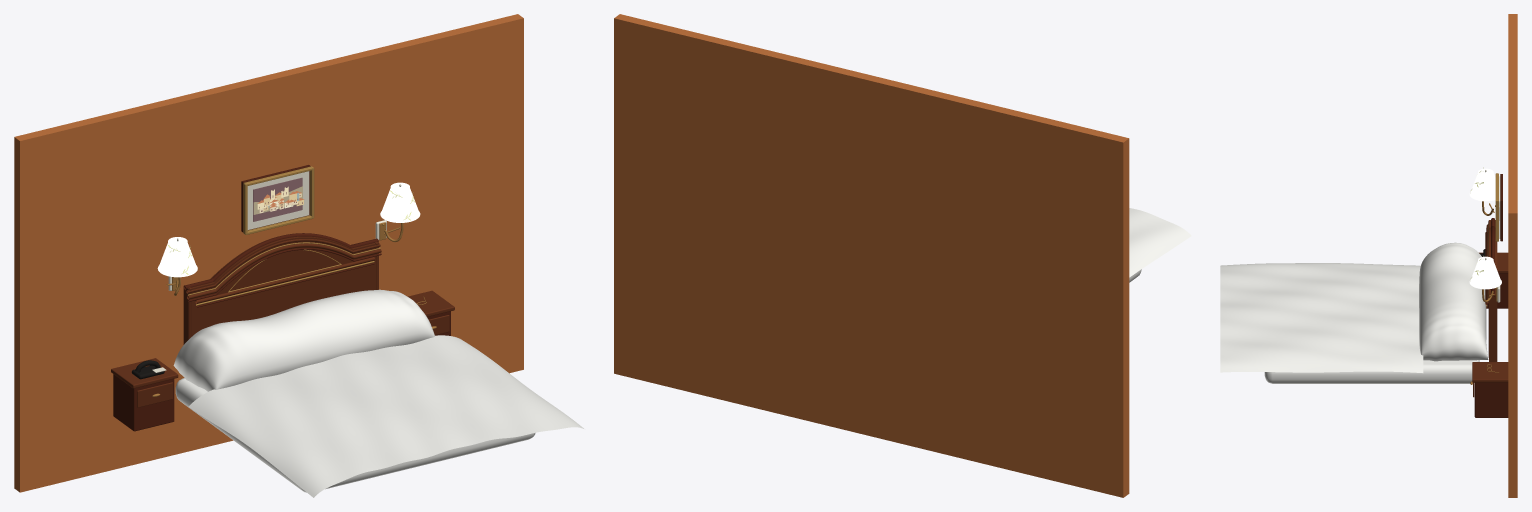
Rendered from scene-1-viga.glb.
3 renders of one model, left to right at view 1: azimuth 30°, elevation 25°; view 2: azimuth 150°, elevation 25°; view 3: azimuth 270°, elevation 25°, orthographic. The views are drawn at different scales.
Visible parts, largest first — view 1: Orange plaster wall, Soft foreground white duvet, Continuous quilt draped over pillow bank, Walnut headboard silhouette, Mattress, Walnut bedside cabinet, Cream picture mat, Tapered luminous linen shade, Tapered luminous linen shade.001, Layered arch crown molding.003, Village painted field, Layered arch crown molding (+5 smaller); view 2: Orange plaster wall, Soft foreground white duvet; view 3: Soft foreground white duvet, Continuous quilt draped over pillow bank, Orange plaster wall, Mattress, Walnut bedside cabinet.001, Polished bedside tabletop.001, Walnut headboard silhouette, Tapered luminous linen shade.001, Tapered luminous linen shade, Walnut bedside cabinet.
Boxes of the visible parts, bbox=[...] form: Orange plaster wall: bbox=[14, 14, 523, 492]; Soft foreground white duvet: bbox=[188, 335, 583, 497]; Continuous quilt draped over pillow bank: bbox=[173, 289, 434, 391]; Walnut headboard silhouette: bbox=[183, 236, 378, 344]; Mattress: bbox=[175, 378, 535, 492]; Walnut bedside cabinet: bbox=[113, 374, 174, 431]; Cream picture mat: bbox=[247, 171, 309, 229]; Tapered luminous linen shade: bbox=[158, 238, 196, 276]; Tapered luminous linen shade.001: bbox=[381, 183, 419, 221]; Layered arch crown molding.003: bbox=[187, 243, 381, 299]; Village painted field: bbox=[253, 177, 302, 221]; Layered arch crown molding: bbox=[184, 233, 378, 290]; Orange plaster wall: bbox=[614, 14, 1129, 497]; Soft foreground white duvet: bbox=[1129, 208, 1191, 277]; Soft foreground white duvet: bbox=[1220, 263, 1423, 372]; Continuous quilt draped over pillow bank: bbox=[1419, 242, 1488, 361]; Orange plaster wall: bbox=[1508, 14, 1517, 497]; Mattress: bbox=[1264, 360, 1479, 383]; Walnut bedside cabinet.001: bbox=[1474, 382, 1508, 417]; Polished bedside tabletop.001: bbox=[1472, 362, 1508, 382]; Walnut headboard silhouette: bbox=[1489, 220, 1497, 361]; Tapered luminous linen shade.001: bbox=[1470, 257, 1501, 288]; Tapered luminous linen shade: bbox=[1470, 169, 1499, 200]; Walnut bedside cabinet: bbox=[1486, 273, 1508, 308].
Bounding box in the file's own units: 9 × 6 × 5.68.
